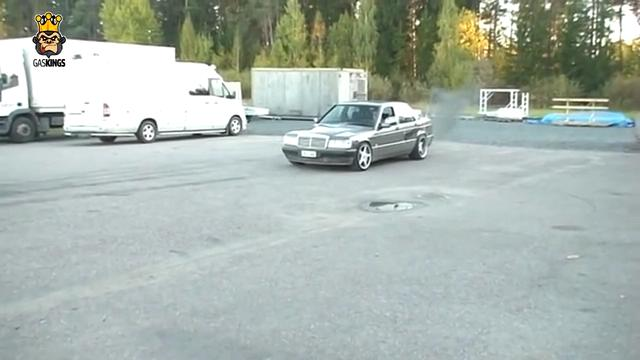smoke: (430, 62, 492, 143)
